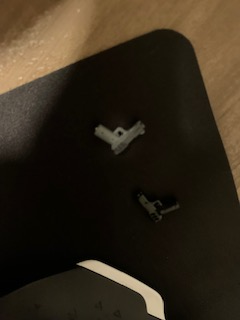pistol: (88, 118, 147, 155), (132, 188, 184, 224)
